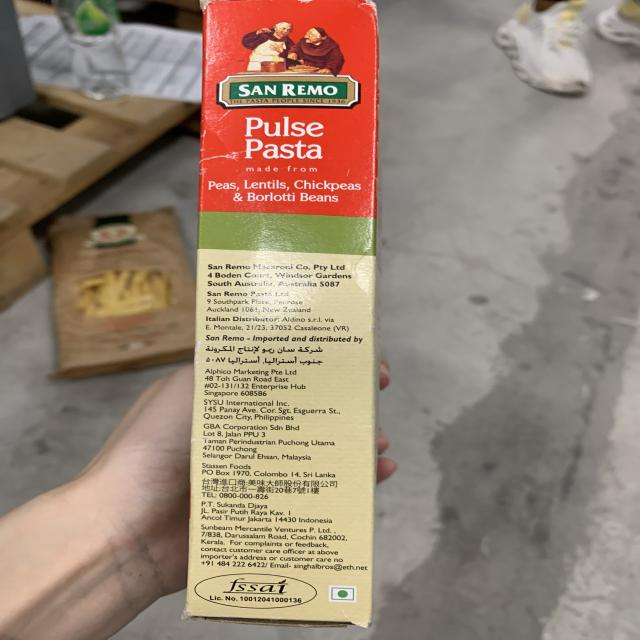object_name: (202, 3, 374, 626)
